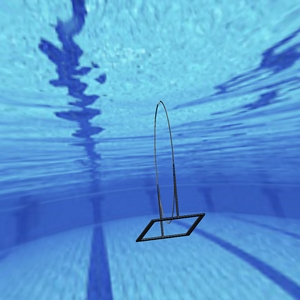circle: (133, 100, 207, 243)
